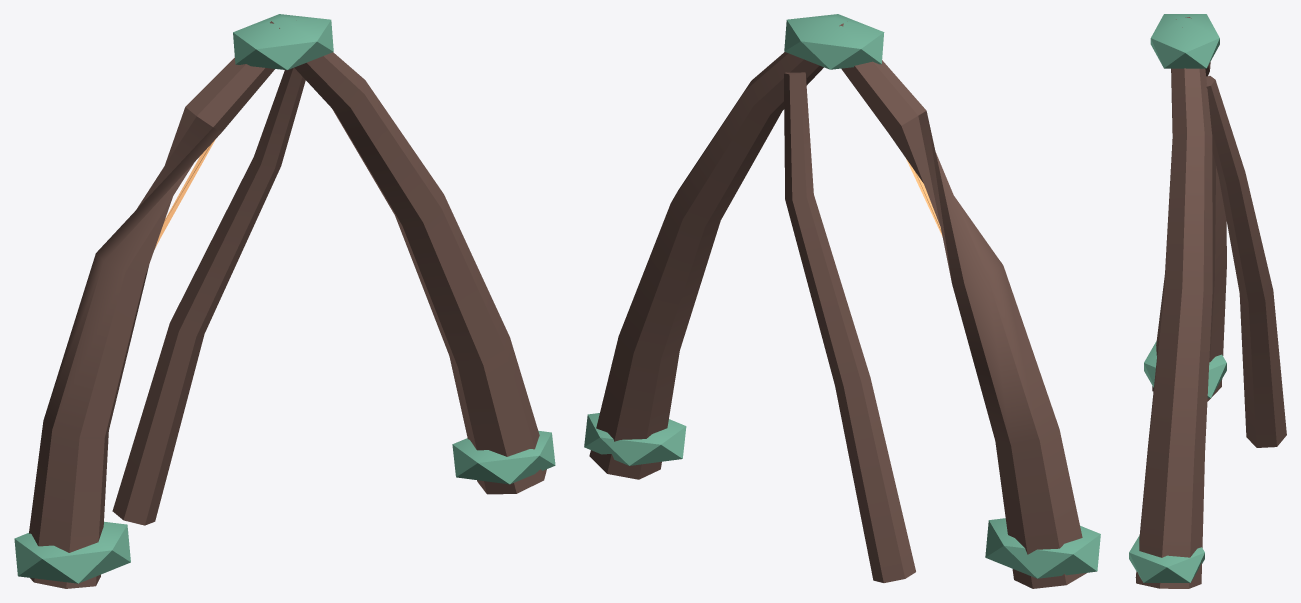
The model's file is glimmerwood_root_arch.glb.
3 renders of one model, left to right at view 1: azimuth 30°, elevation 25°; view 2: azimuth 150°, elevation 25°; view 3: azimuth 270°, elevation 25°, orthographic. The views are drawn at different scales.
Visible parts, largest first — view 1: glimmerwood_root_arch; view 2: glimmerwood_root_arch; view 3: glimmerwood_root_arch.
Boxes of the visible parts, bbox=[...] form: glimmerwood_root_arch: bbox=[14, 14, 555, 588]; glimmerwood_root_arch: bbox=[584, 14, 1100, 588]; glimmerwood_root_arch: bbox=[1129, 14, 1286, 588].
Bounding box in the file's own units: 2.74 × 2.56 × 0.777.
